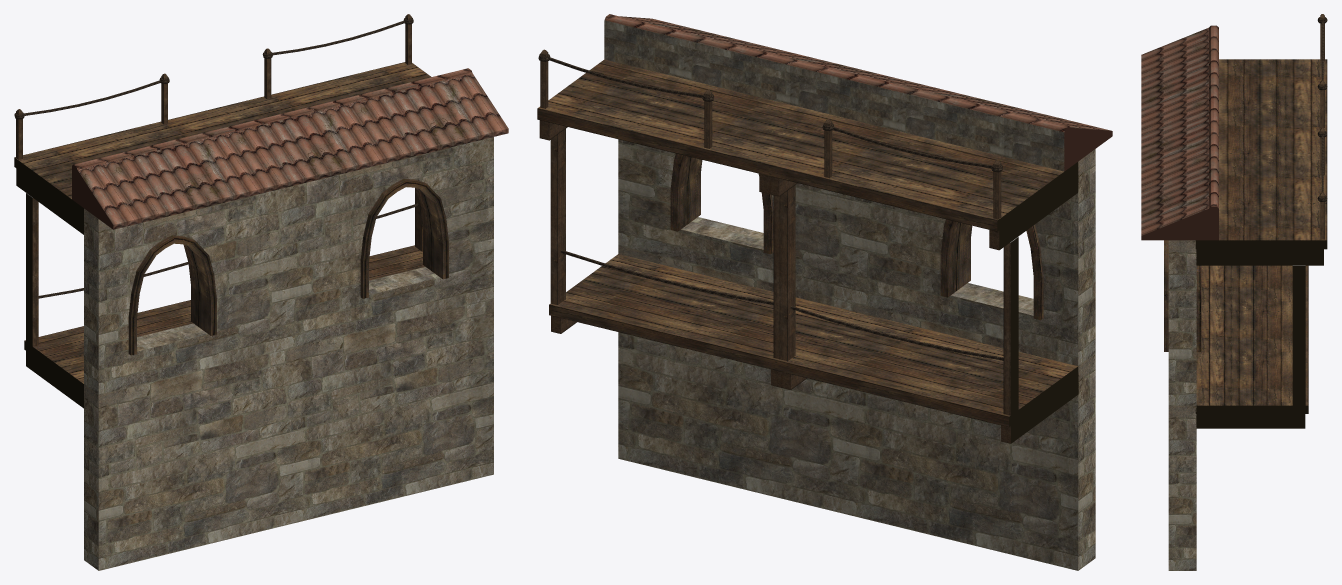
The model's file is FortWallCenter1.dae.
The picture shows the model from 3 angles, left to right: view 1: azimuth 30°, elevation 25°; view 2: azimuth 150°, elevation 25°; view 3: azimuth 270°, elevation 25°; orthographic projection. The views are drawn at different scales.
Visible parts, largest first — view 1: forts_stone_sep38-0; view 2: forts_stone_sep38-0; view 3: forts_stone_sep38-0.
Boxes of the visible parts, left/top/right/bottom form: forts_stone_sep38-0: left=14, top=14, right=508, bottom=570; forts_stone_sep38-0: left=537, top=14, right=1112, bottom=570; forts_stone_sep38-0: left=1141, top=14, right=1327, bottom=570.
Bounding box in the file's own units: 9.27 × 8.92 × 3.99.
